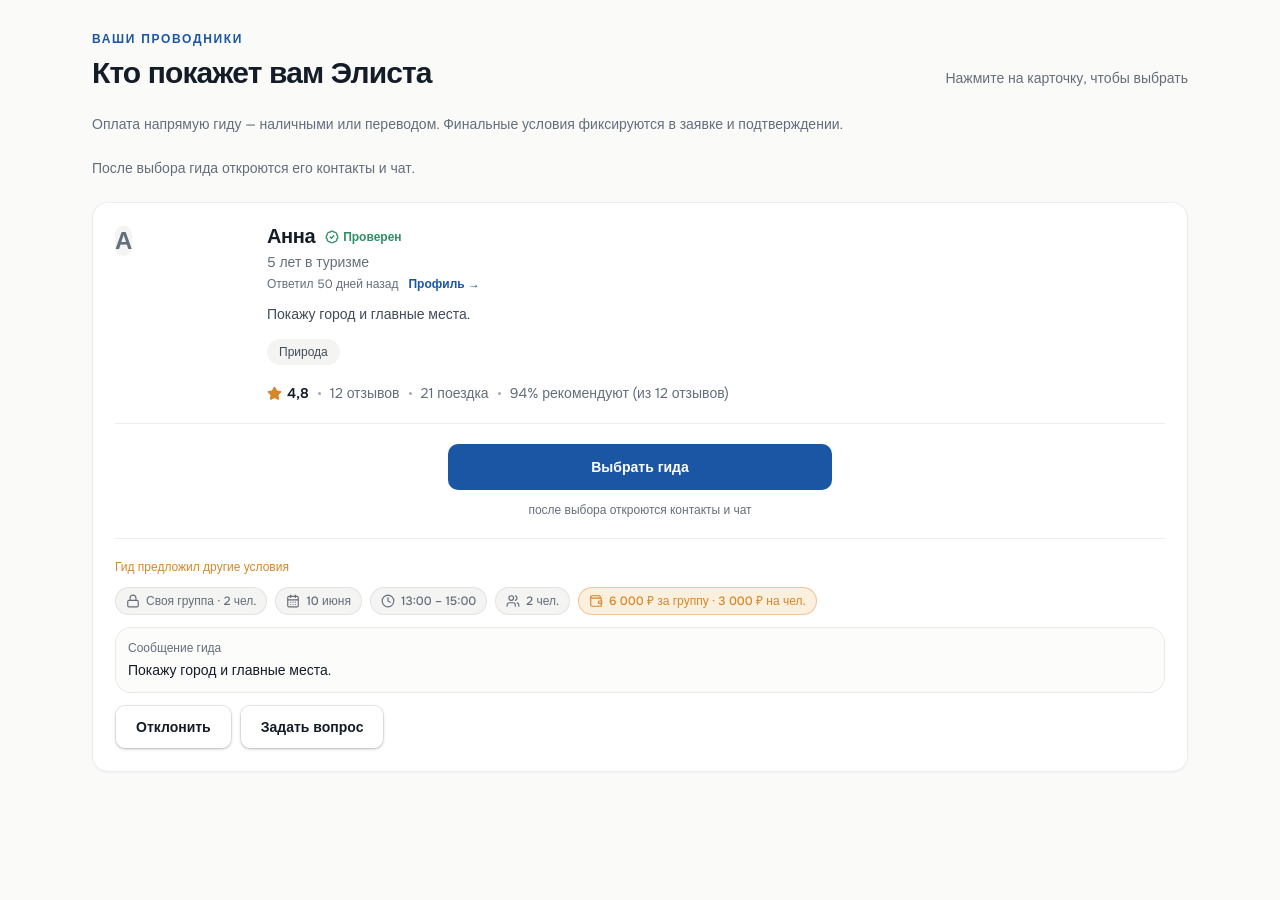
Test: RequestDetailScreen › renders the owner guide comparison with select→accept and not the guide bid form
(page scrolled)
Expected: the heading "Кто покажет вам Элиста" is shown, x1=92 y1=57 x2=432 y2=90
Expected: the button "Принять предложение" is not shown
Click the button "Выбрать гида": click(640, 467) x1=448 y1=444 x2=832 y2=490
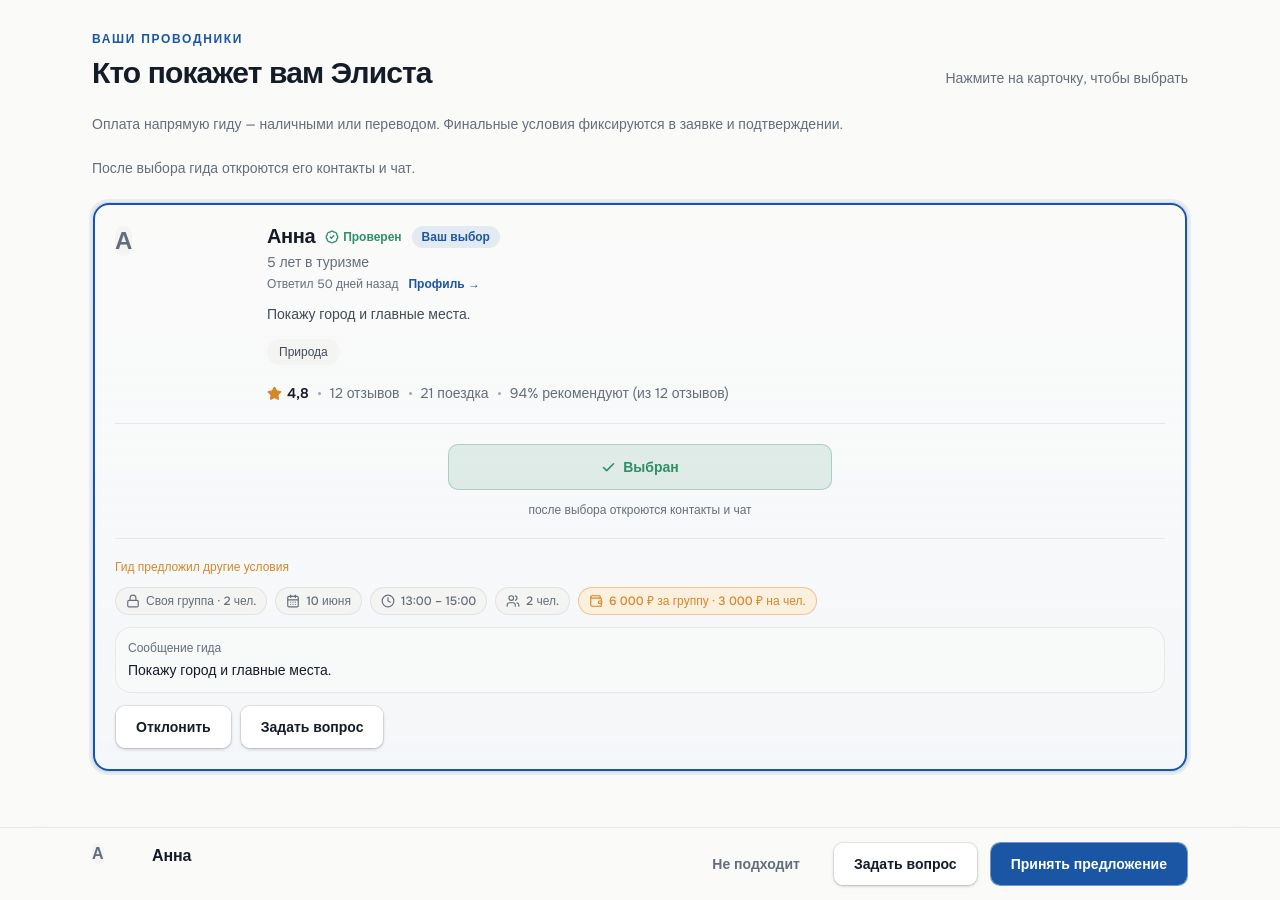
Expected: the button "Принять предложение" is shown, x1=990 y1=842 x2=1188 y2=886
